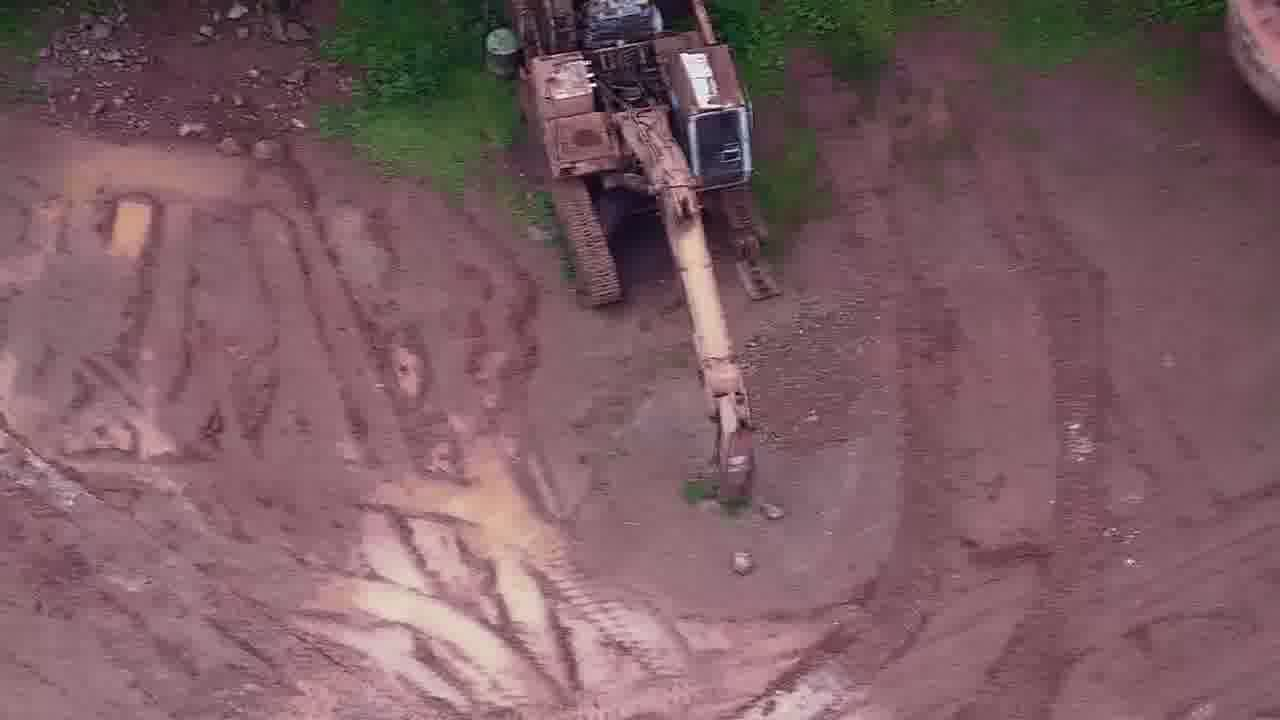HMV: (482, 1, 786, 477)
